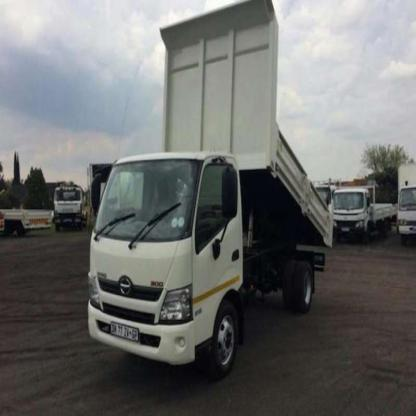dump_truck: (83, 4, 335, 377), (334, 177, 398, 251)
